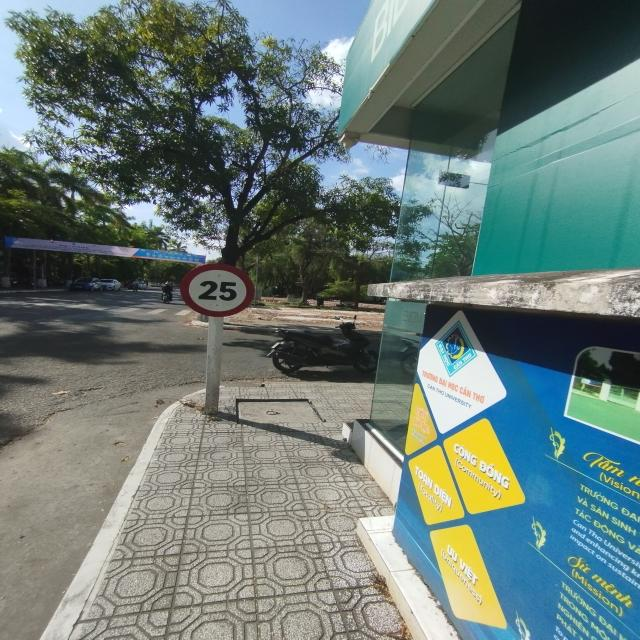Tre_Em: (179, 262, 256, 318)
